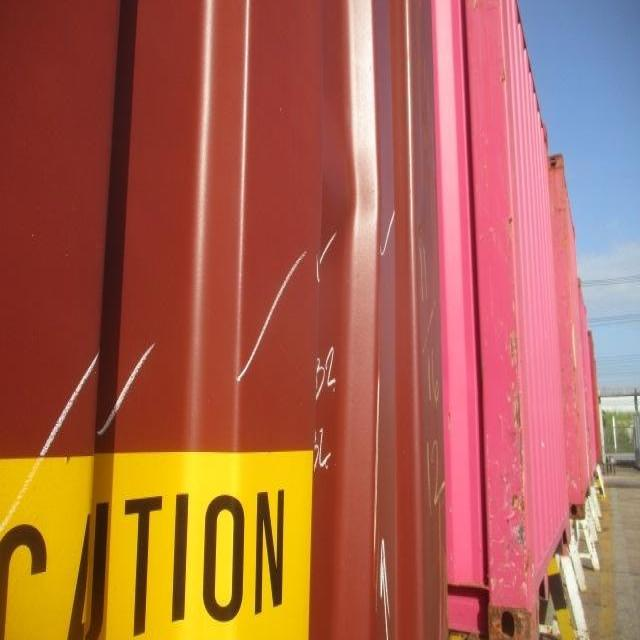dent: (314, 78, 399, 296)
